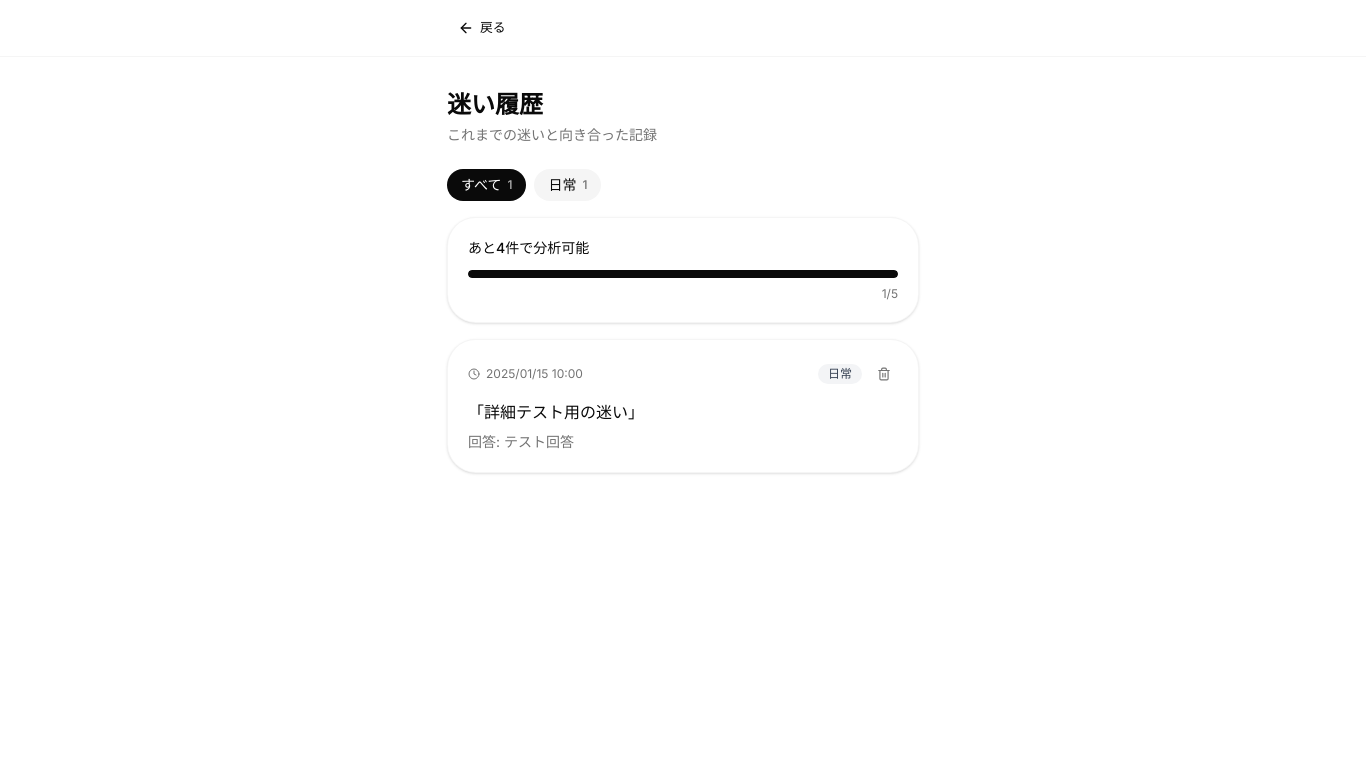
Test: HistoryPage › 詳細モーダル › ログクリックでモーダルが表示される
This screenshot has width=1366, height=768.
// カード本体をクリック
What coordinates should you click on to do the following:
click the text "2025/01/15 10:00 日常 「詳細テスト用の迷い」 回答: テスト回答"
I would click on:
 (683, 406)
Its box is [447,339,919,473].
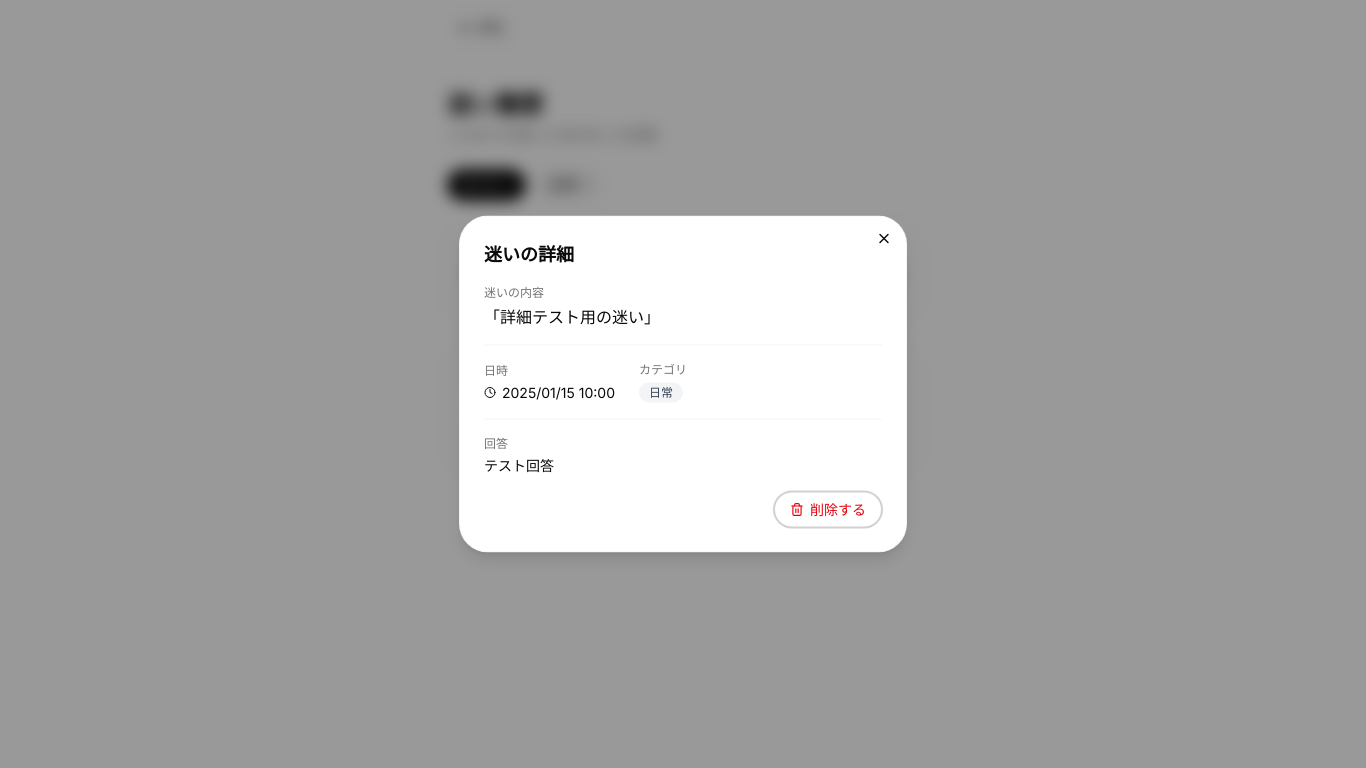
Result: the heading "迷いの詳細" is shown at [484,244,574,264]
Result: the text "迷いの内容" is shown at [484,284,544,300]
